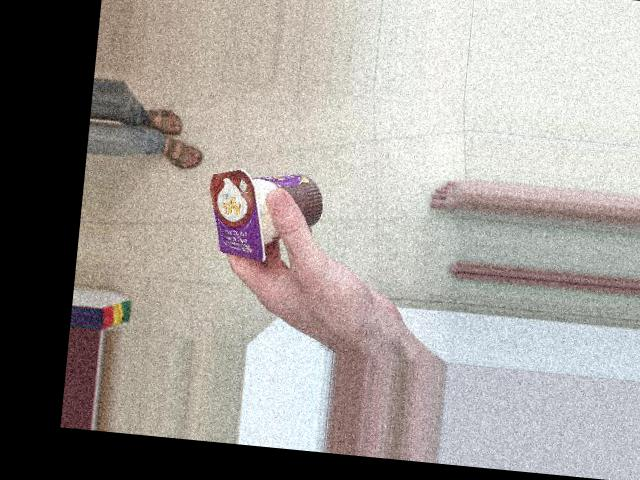milky: (196, 122, 292, 260)
